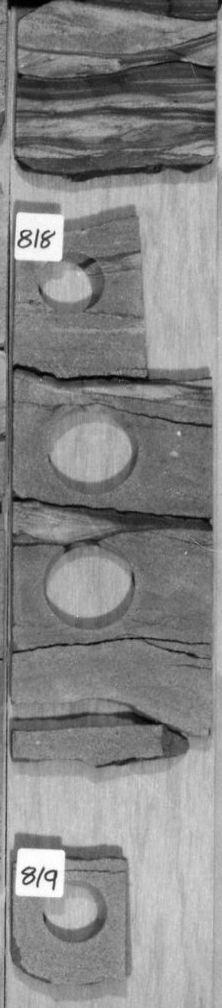hplug: (31, 244, 108, 317), (36, 873, 111, 946)
scal: (45, 403, 141, 498), (41, 537, 136, 632)
vplug: (133, 216, 208, 390)
